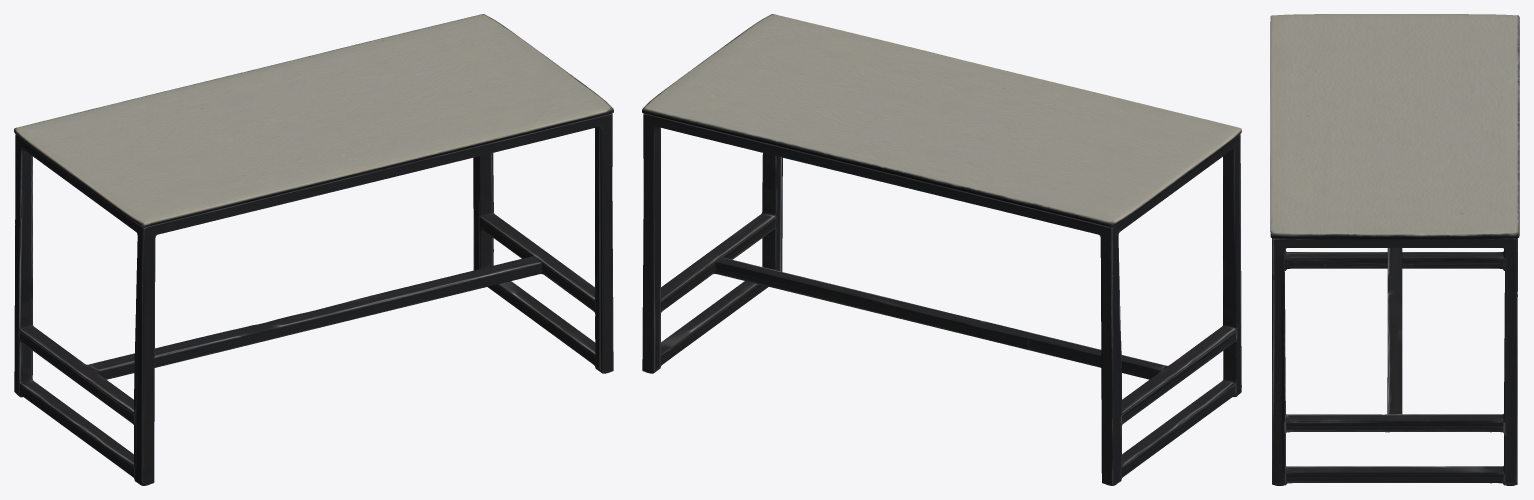
The model's file is cb_table_stand.glb.
3 views of the same model, side by side, from view 1: azimuth 30°, elevation 25°; view 2: azimuth 150°, elevation 25°; view 3: azimuth 270°, elevation 25° (orthographic). The views are drawn at different scales.
Visible parts, largest first — view 1: node_0; view 2: node_0; view 3: node_0.
Boxes of the visible parts, left/top/right/bottom form: node_0: left=14, top=14, right=613, bottom=485; node_0: left=642, top=14, right=1241, bottom=485; node_0: left=1270, top=14, right=1519, bottom=485.
Bounding box in the file's own units: 0.9878 × 0.5263 × 0.4698.
Materials: 1 (1 with a texture image).
